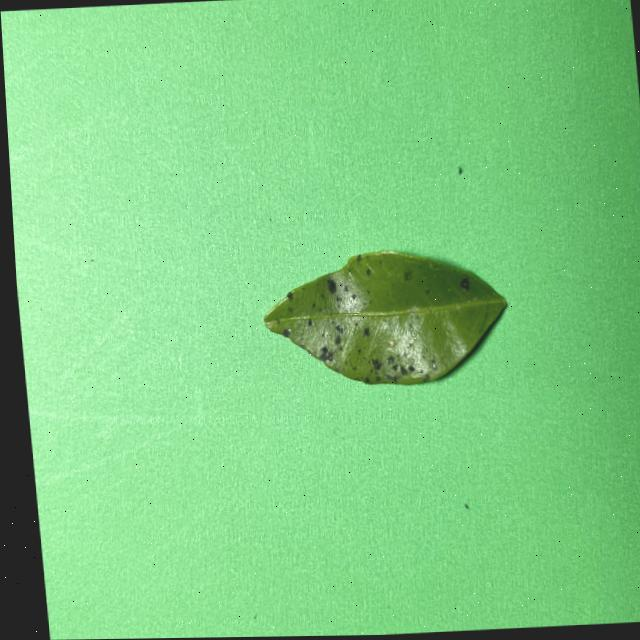sooty_mold: (263, 251, 503, 384)
